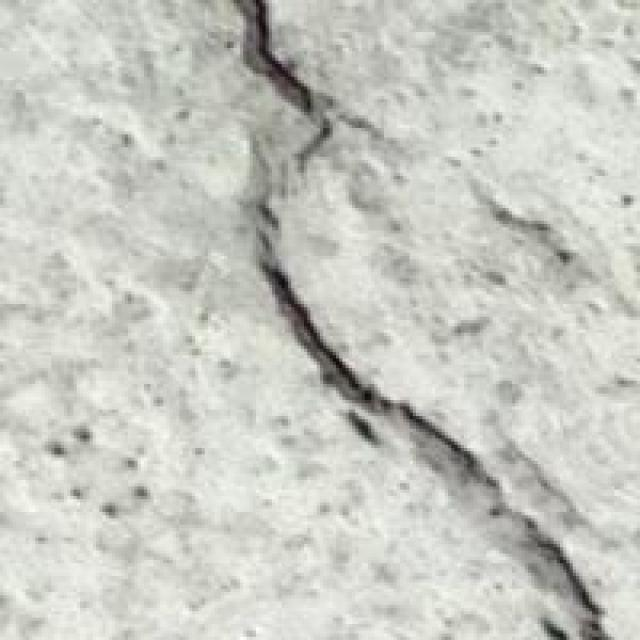Crack: (208, 0, 611, 640)
